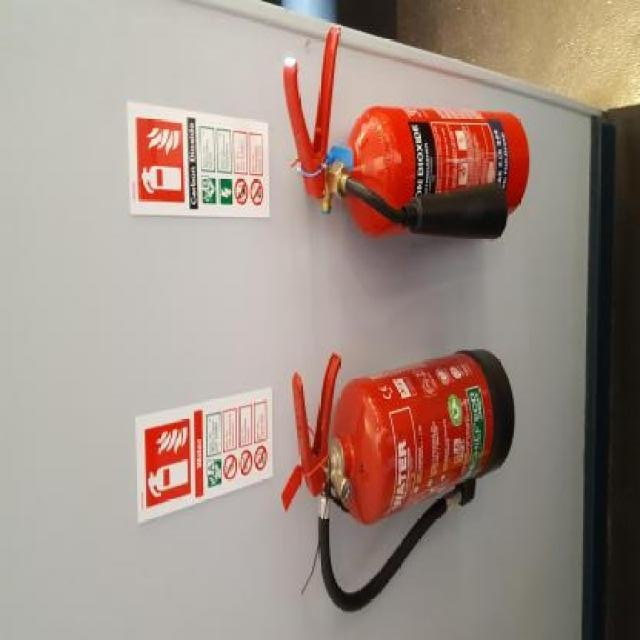fire extinguisher: (282, 351, 515, 614), (281, 35, 527, 240)
